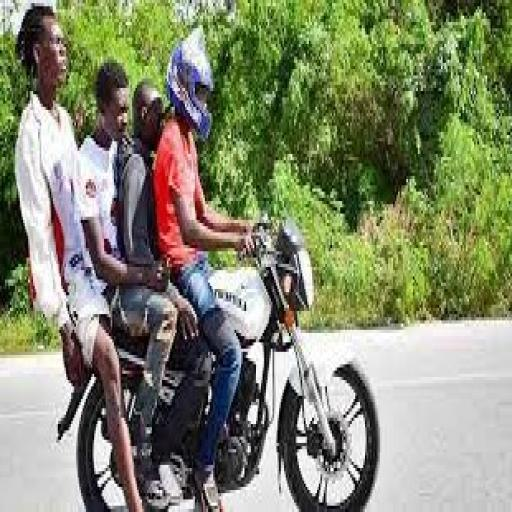helmet: (152, 25, 256, 506), (165, 25, 215, 141)
overloading: (53, 207, 381, 506)
